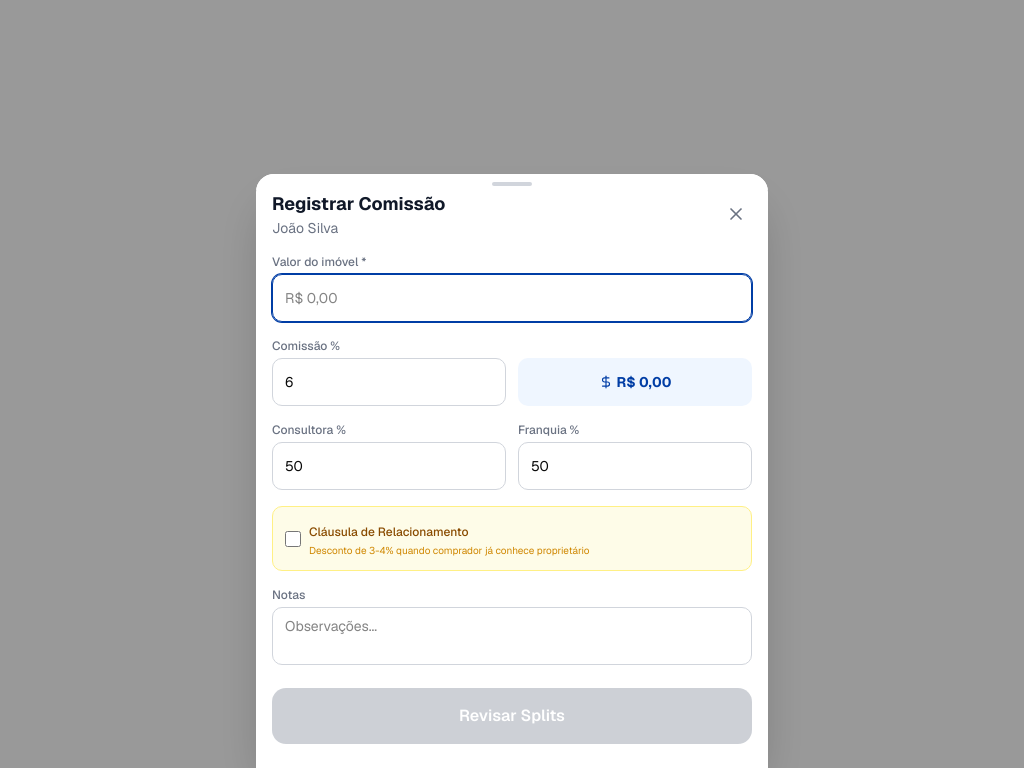
ComissaoForm › shows informante split row when informanteId is provided and review step reached
Type "1000000" into the field with placeholder "R$ 0,00".
click(512, 298); type("1000000")  # box [272,274,752,322]
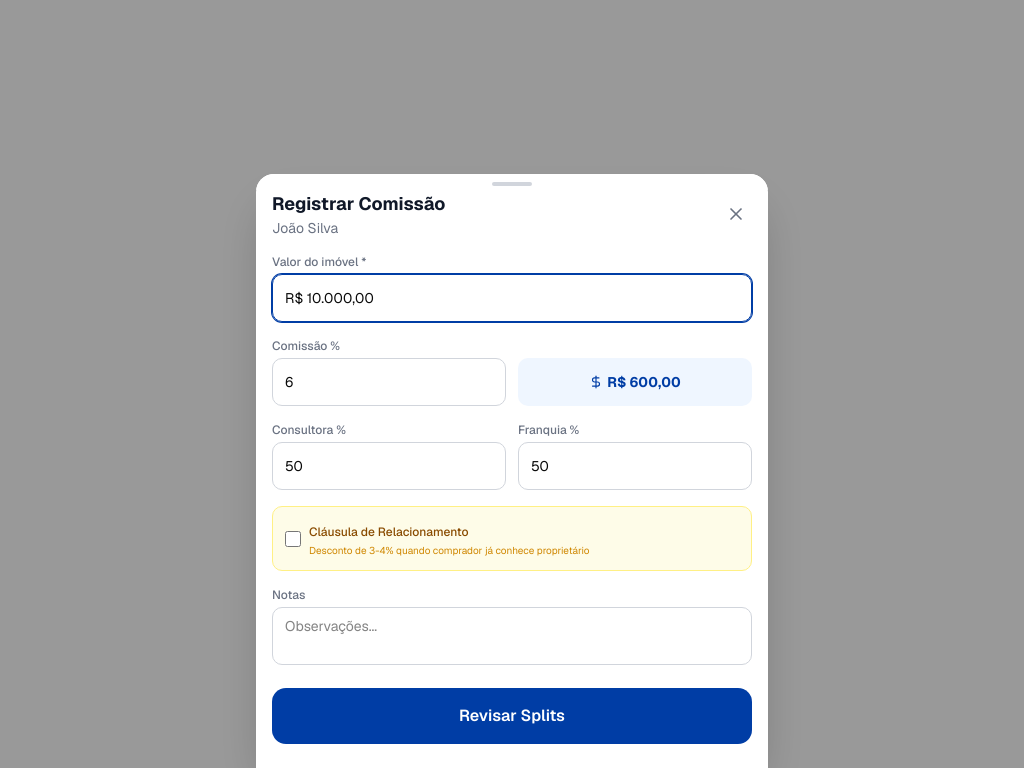
Click the button "Revisar Splits".
click(512, 716)  # box [272,688,752,744]
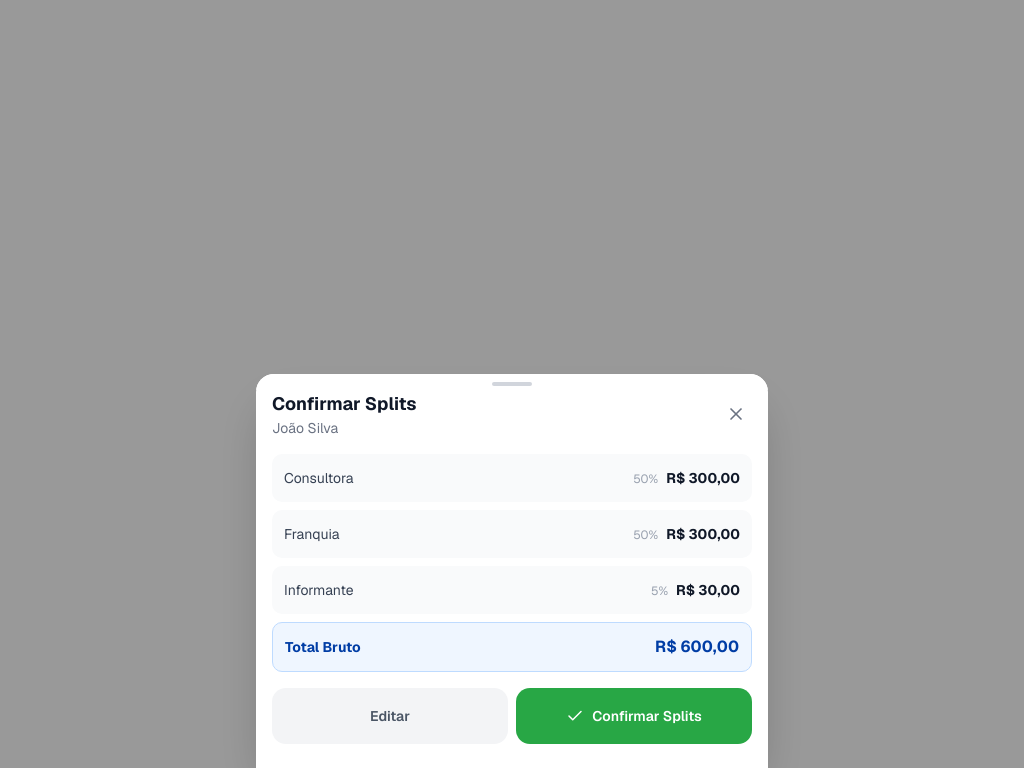
Expected: the text "Informante" is shown, [284,580,354,600]
